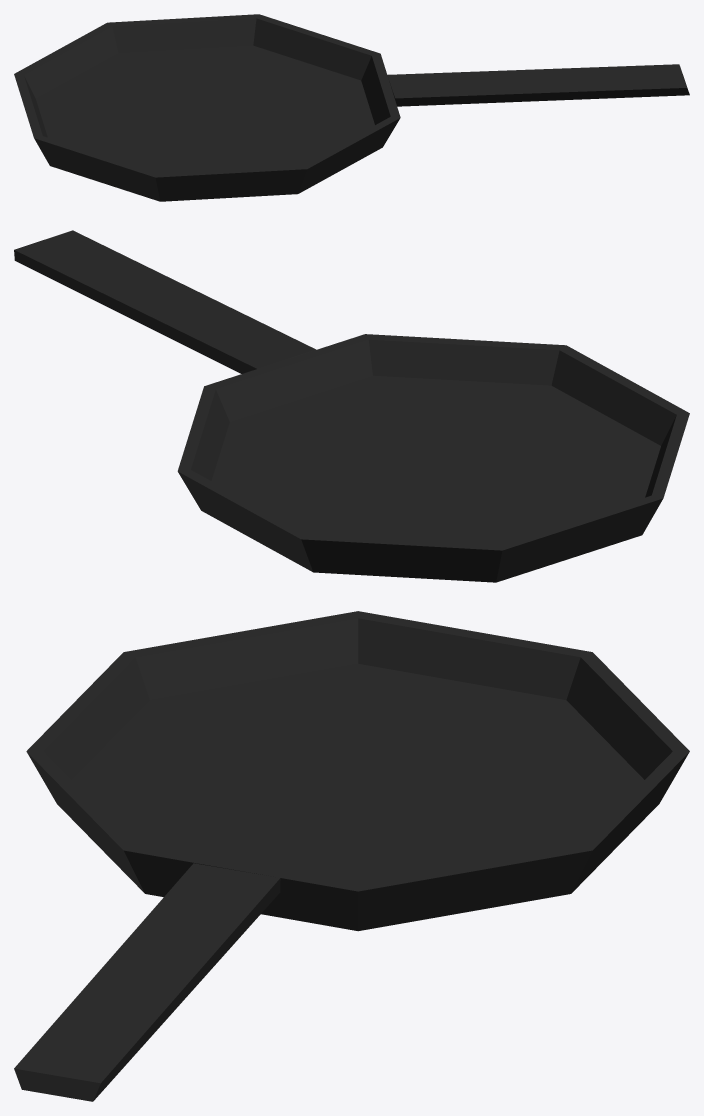
The model's file is Pan.fbx.
3 views of the same model, one above another, from view 1: azimuth 30°, elevation 25°; view 2: azimuth 150°, elevation 25°; view 3: azimuth 270°, elevation 25° (orthographic). The views are drawn at different scales.
Visible parts, largest first — view 1: Cylinder; view 2: Cylinder; view 3: Cylinder.
Boxes of the visible parts, x1=… form: Cylinder: x1=14, y1=14, x2=689, y2=201; Cylinder: x1=14, y1=230, x2=689, y2=582; Cylinder: x1=14, y1=611, x2=689, y2=1101.
Size of the model in its own units: 69.26 by 3.69 by 42.95.
